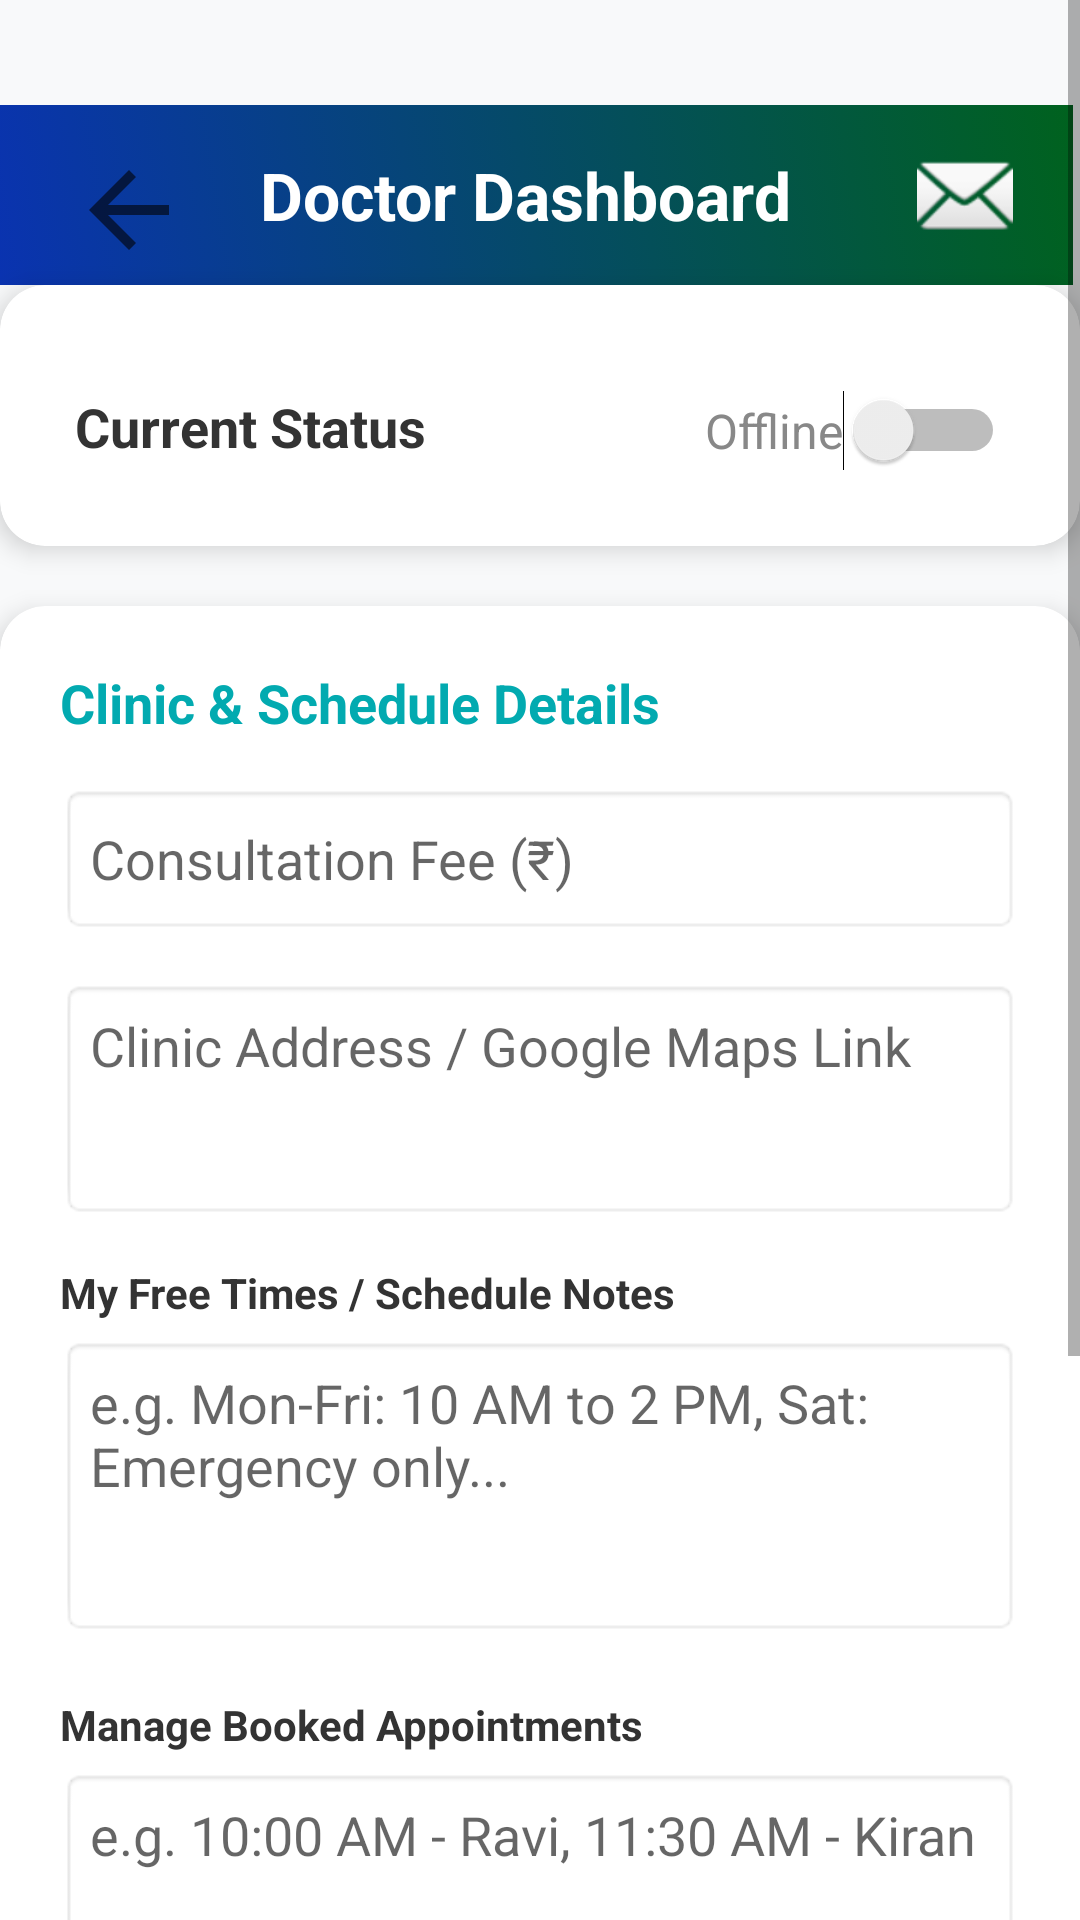

Icon click points for this 1080px×1920px phone screenshot, format (x=x, y=y):
email: (x=965, y=196)
